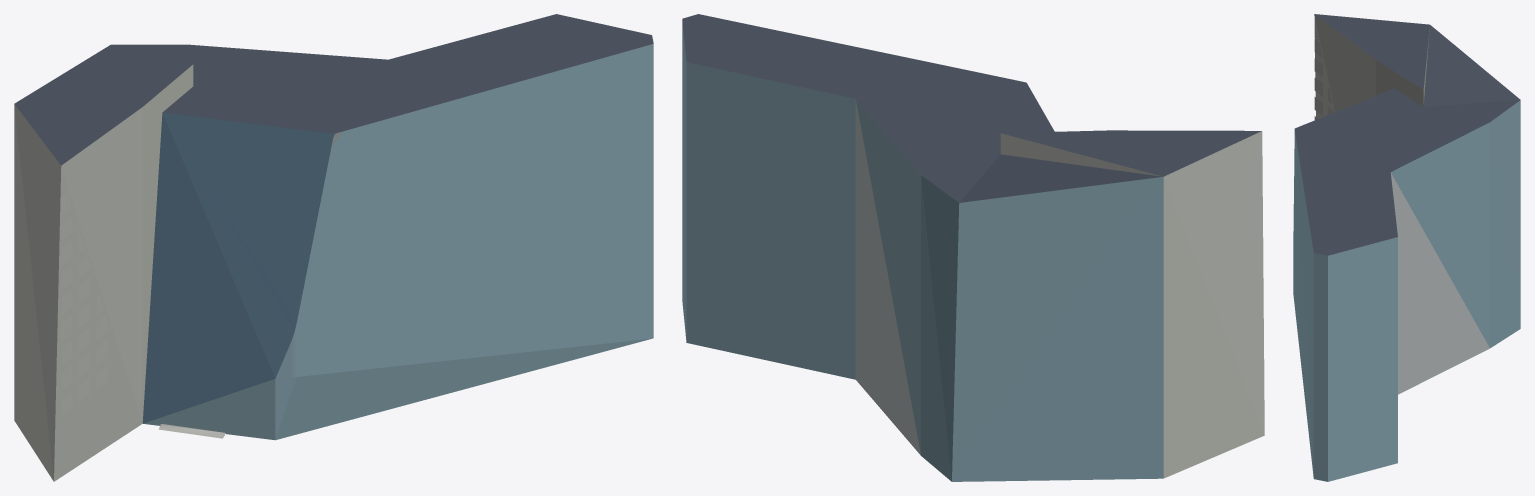
Rendered from akzonobel-center.lod2.glb.
3 views of the same model, side by side, from view 1: azimuth 30°, elevation 25°; view 2: azimuth 150°, elevation 25°; view 3: azimuth 270°, elevation 25° (orthographic). The views are drawn at different scales.
Visible parts, largest first — view 1: lod2; view 2: lod2; view 3: lod2.
Boxes of the visible parts, box(x1,y1,x2,y2) form: lod2: box(14, 14, 653, 481); lod2: box(682, 14, 1264, 481); lod2: box(1293, 14, 1520, 481).
Bounding box in the file's own units: 88.5 × 44.3 × 37.54.
